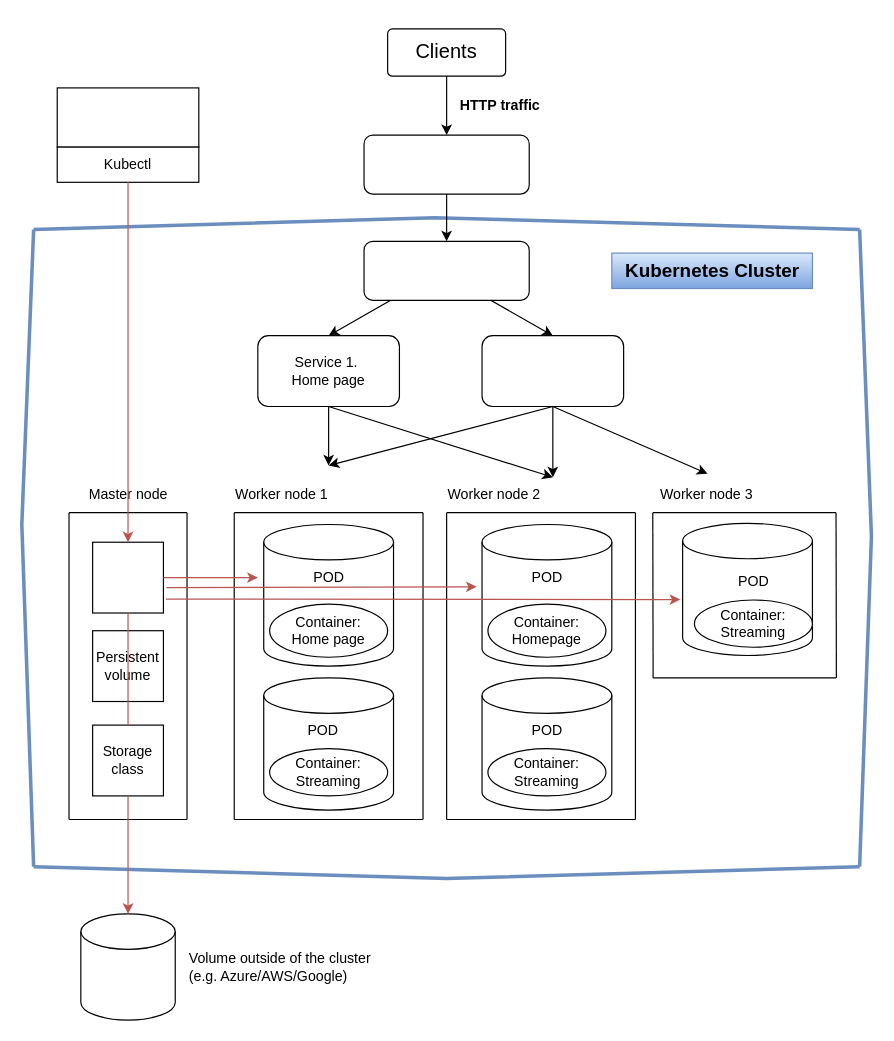
This 894x1041 diagram has some shape labels left out. The box of each missing label's shape, as (x1, y1, x2, y2) in pixels:
API services: (91, 541, 163, 613)
External load balancer managed by Ingress: (363, 134, 529, 194)
Ingress: (363, 240, 529, 300)
My computer ("operator"): (56, 87, 199, 147)
Service 2. Streaming: (481, 335, 624, 407)
Volume: (80, 913, 175, 1020)
